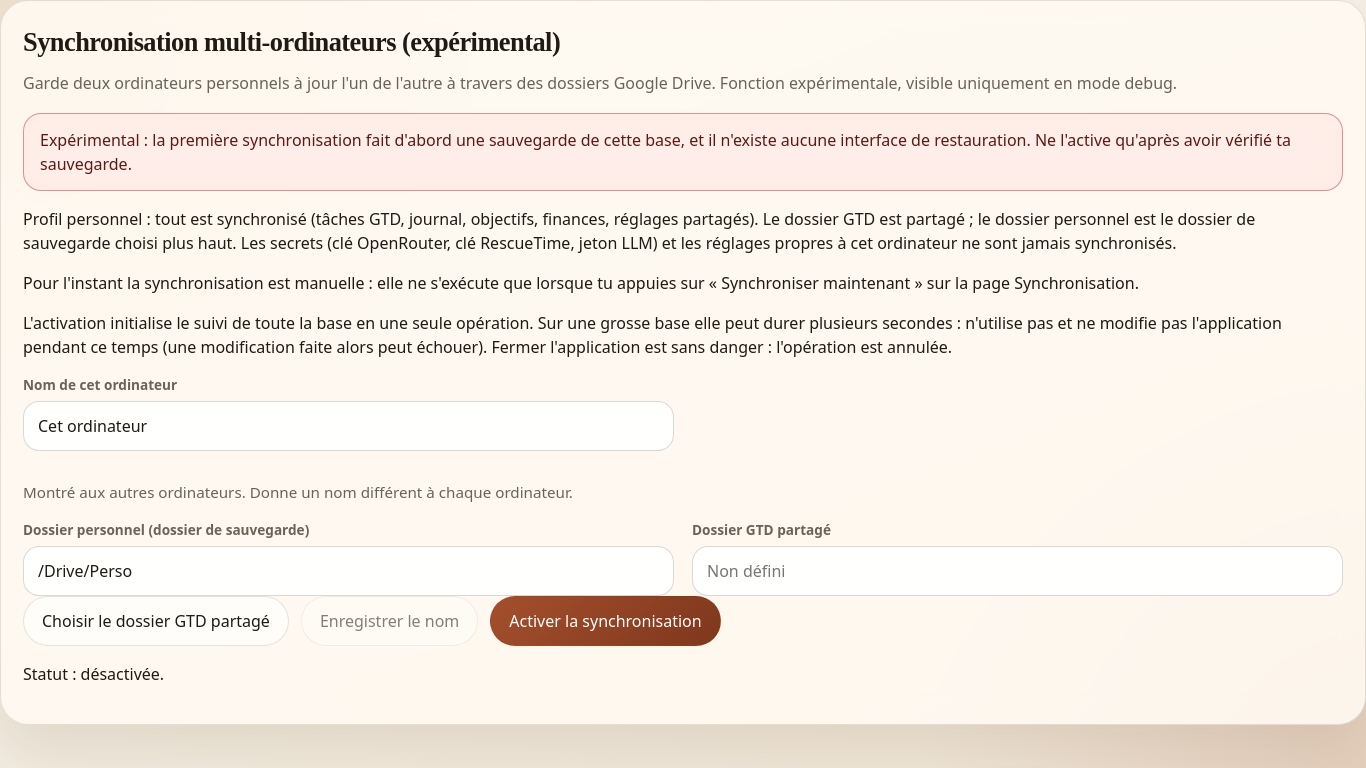
Test: choosing the shared GTD folder › refuses a folder inside the backup folder and saves nothing
The width and height of the screenshot is (1366, 768).
Click the button "Choisir le dossier GTD partagé" at (156, 621), box [23, 596, 289, 646]
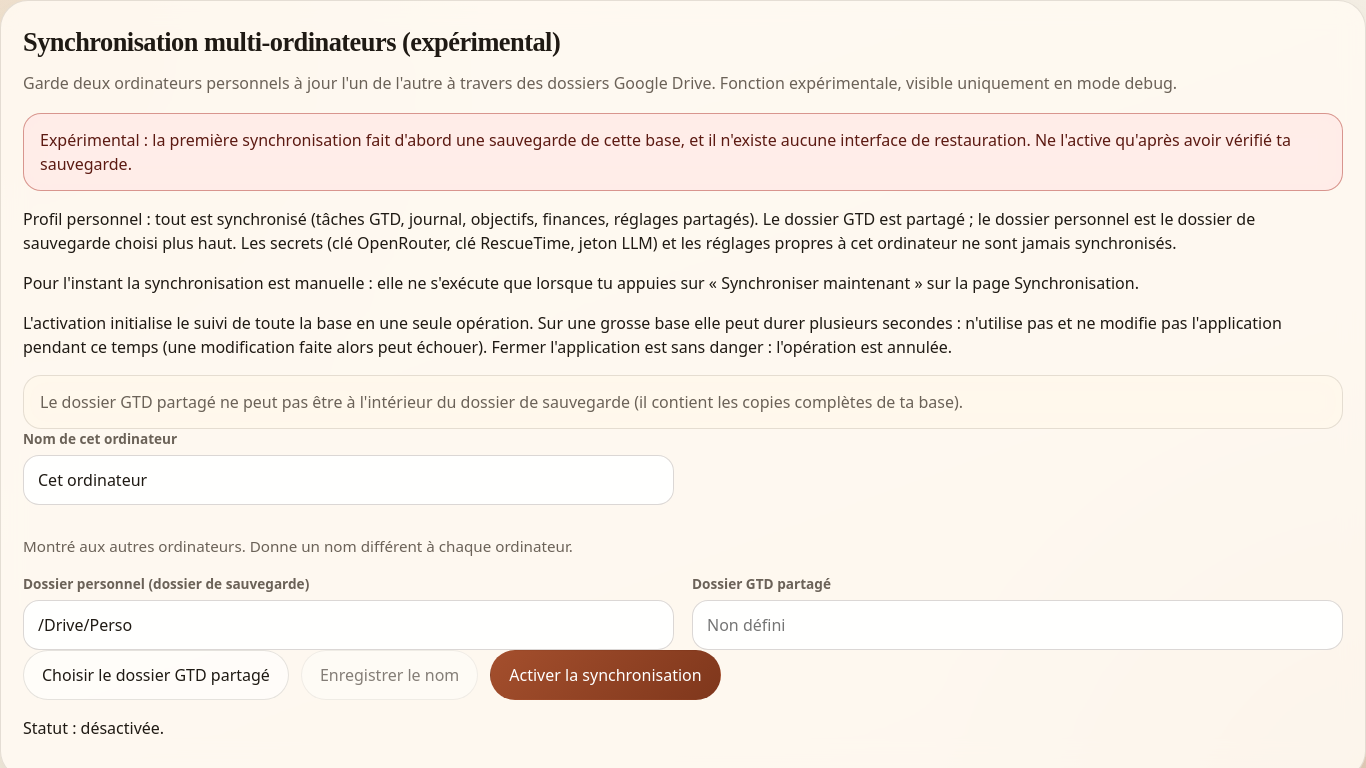
Check: the text "à l'intérieur du dossier de sauvegarde" is shown, box [40, 391, 963, 413]
